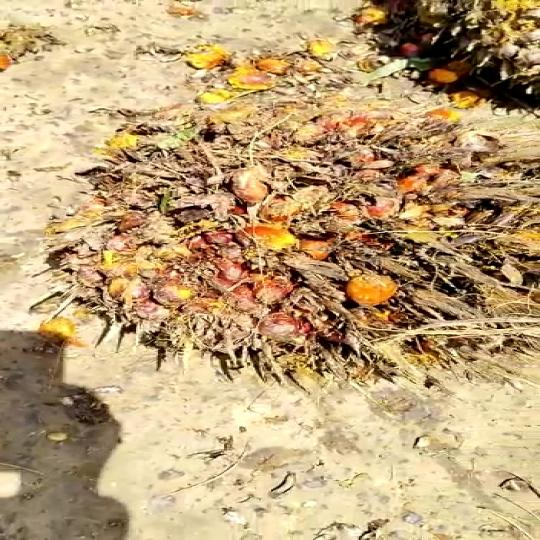terlalu masak: (93, 93, 540, 419)
